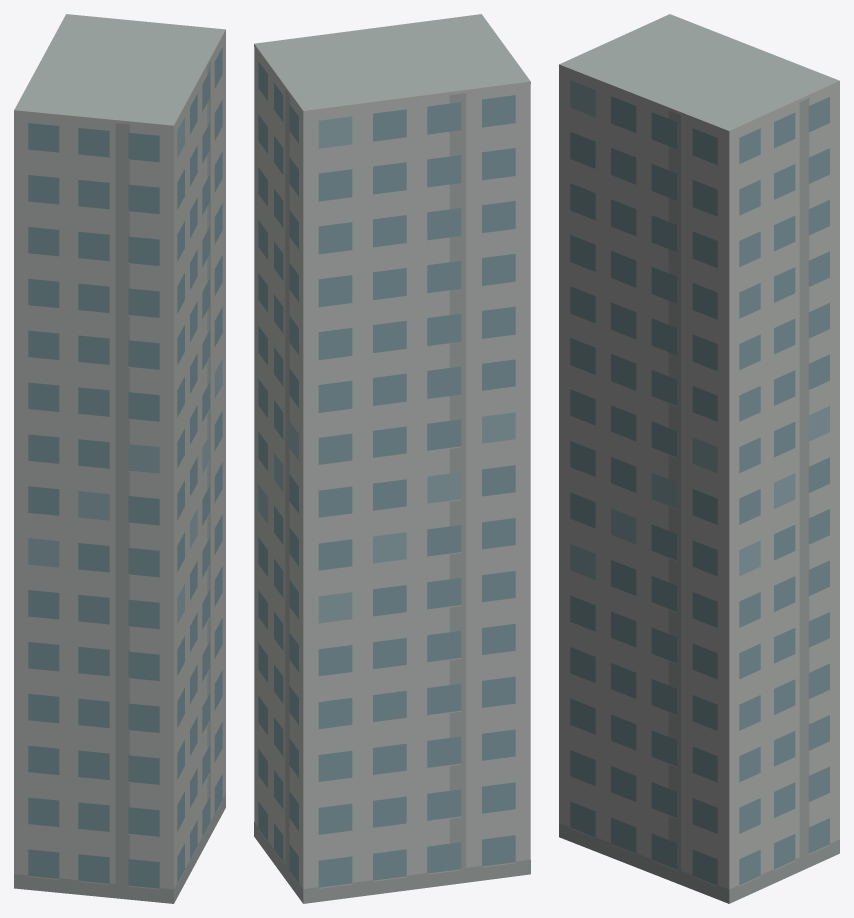
The model's file is residential-88ca66ef-2c8b-43bb-ade0-19cfc47e0ce8.glb.
3 views of the same model, side by side, from view 1: azimuth 30°, elevation 25°; view 2: azimuth 150°, elevation 25°; view 3: azimuth 270°, elevation 25° (orthographic). The views are drawn at different scales.
Visible parts, largest first — view 1: residential-88ca66ef-2c8b-43bb-ade0-19cfc47e0ce8.tmp; view 2: residential-88ca66ef-2c8b-43bb-ade0-19cfc47e0ce8.tmp; view 3: residential-88ca66ef-2c8b-43bb-ade0-19cfc47e0ce8.tmp.
Part boxes in pixels (<box>): residential-88ca66ef-2c8b-43bb-ade0-19cfc47e0ce8.tmp: <box>14,14,225,903</box>; residential-88ca66ef-2c8b-43bb-ade0-19cfc47e0ce8.tmp: <box>254,14,530,903</box>; residential-88ca66ef-2c8b-43bb-ade0-19cfc47e0ce8.tmp: <box>559,14,839,903</box>.
Bounding box in the file's own units: 19.83 × 61 × 20.09.
